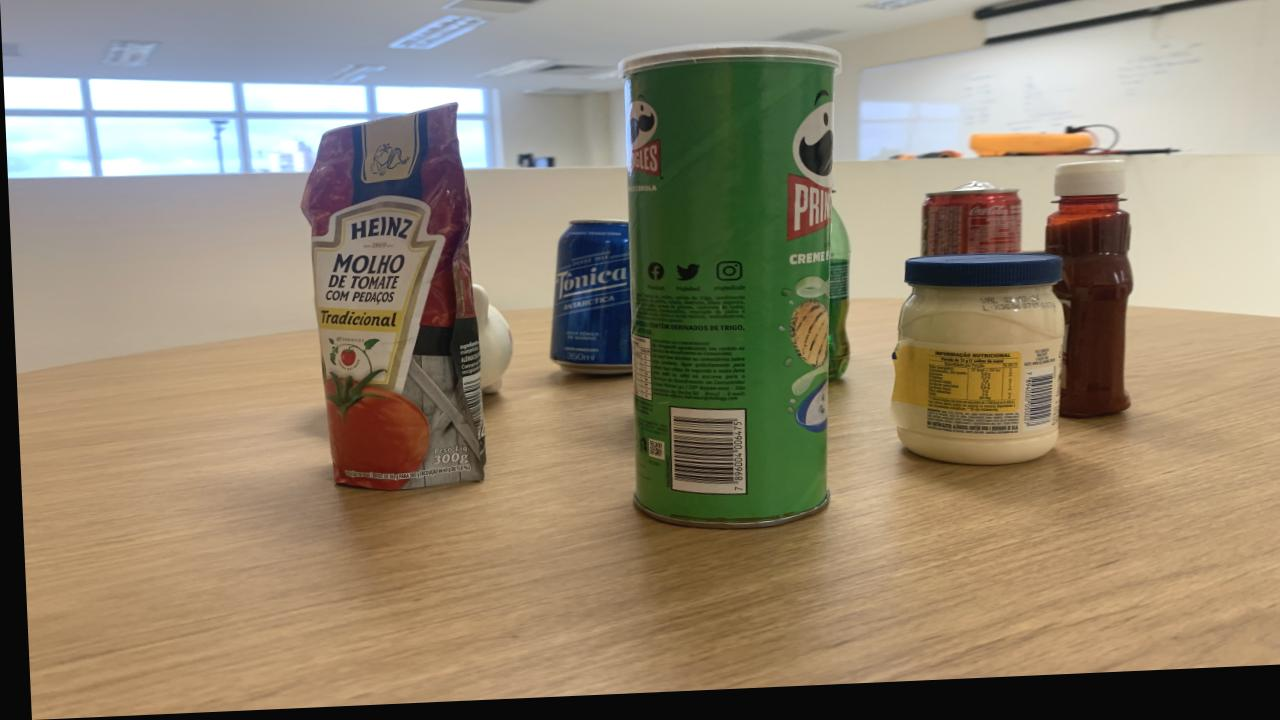Coke-Drinks: (917, 191, 1020, 264)
Guarana-Drinks: (824, 217, 848, 390)
Ketchup-Pantry_Items: (1042, 169, 1129, 428)
Mayonnaise-Pantry_Items: (888, 262, 1061, 473)
Pig_Safe-Miscellaneous: (471, 289, 510, 398)
Pringles-Snacks: (624, 51, 836, 533)
Tomato_Sauce-Pantry_Items: (300, 108, 482, 494)
Tonic-Drinks: (546, 225, 629, 381)
